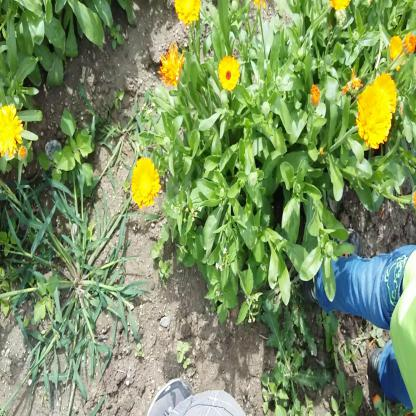marigold: (358, 86, 390, 146), (131, 159, 159, 209), (0, 102, 22, 156), (159, 46, 184, 84), (218, 57, 241, 90), (175, 0, 201, 22)
